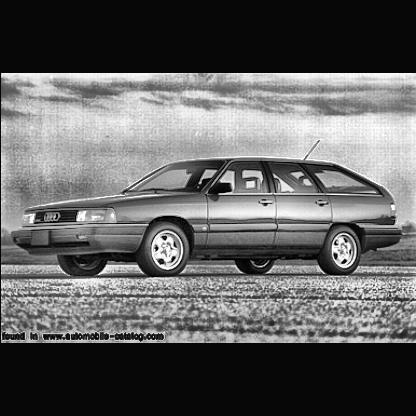Audi 100 Wagon 1994: (10, 156, 406, 277)
